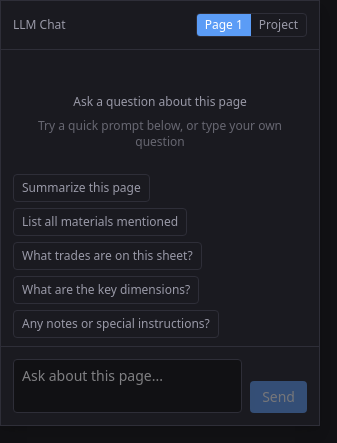
ChatPanel — stream {error} chunk (T-B5) › folds a stream error into a single assistant bubble
Type "q" into the text box with placeholder "Ask about this page...". click: (128, 386)
box: left=13, top=359, right=242, bottom=413
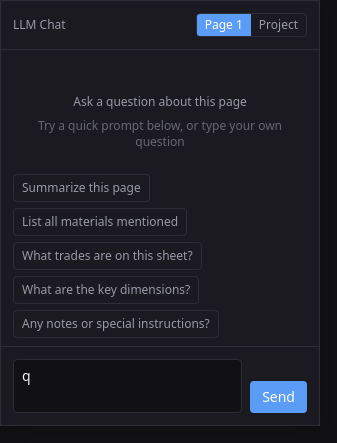
Click the button "Send". click: (279, 397)
box: left=250, top=381, right=307, bottom=413
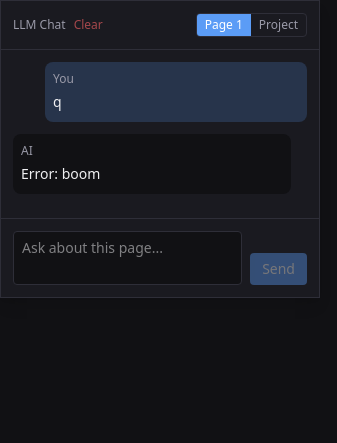
Now the text "AI" is shown once, box left=21, top=142, right=33, bottom=159
